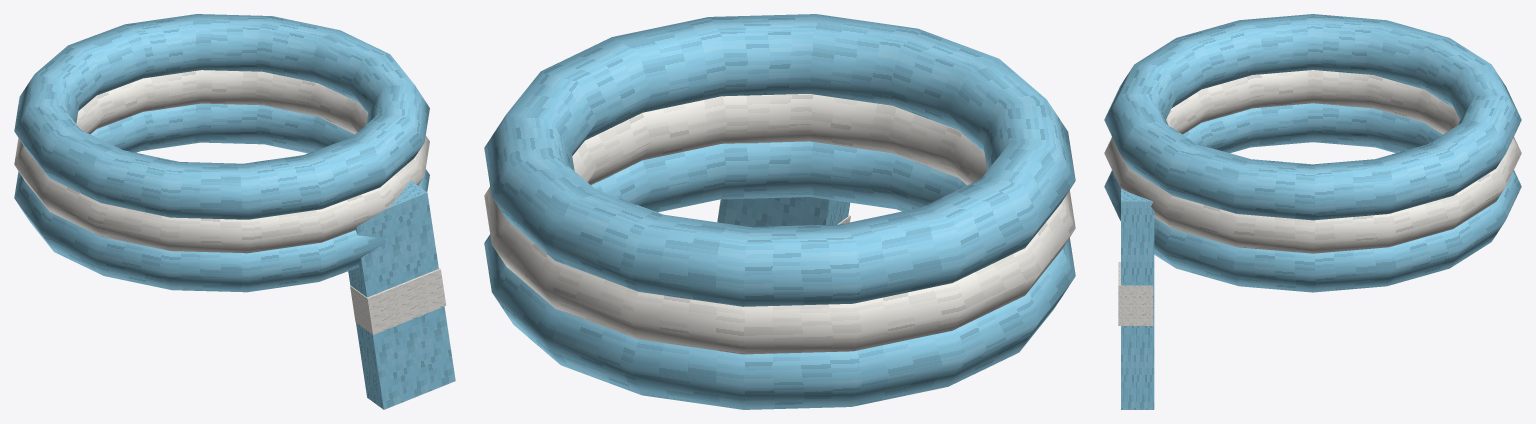
File: bufanda_albiceleste.glb
The picture shows the model from 3 angles, left to right: view 1: azimuth 30°, elevation 25°; view 2: azimuth 150°, elevation 25°; view 3: azimuth 270°, elevation 25°; orthographic projection. The views are drawn at different scales.
Parts seen in each view (by area): view 1: _MeshInstance3D_222, _MeshInstance3D_223, _MeshInstance3D_224, _MeshInstance3D_225, _MeshInstance3D_226; view 2: _MeshInstance3D_222, _MeshInstance3D_224, _MeshInstance3D_223, _MeshInstance3D_225; view 3: _MeshInstance3D_222, _MeshInstance3D_224, _MeshInstance3D_223, _MeshInstance3D_225, _MeshInstance3D_226.
Part boxes in pixels (x1,y1,x2,y2): _MeshInstance3D_222: [14, 14, 429, 219]; _MeshInstance3D_223: [14, 70, 429, 253]; _MeshInstance3D_224: [14, 103, 429, 292]; _MeshInstance3D_225: [348, 181, 455, 409]; _MeshInstance3D_226: [350, 268, 446, 334]; _MeshInstance3D_222: [484, 14, 1075, 306]; _MeshInstance3D_224: [484, 141, 1075, 409]; _MeshInstance3D_223: [484, 94, 1075, 354]; _MeshInstance3D_225: [718, 197, 849, 226]; _MeshInstance3D_222: [1104, 14, 1521, 220]; _MeshInstance3D_224: [1104, 103, 1521, 292]; _MeshInstance3D_223: [1104, 70, 1521, 253]; _MeshInstance3D_225: [1121, 188, 1154, 409]; _MeshInstance3D_226: [1118, 262, 1153, 325].
Bounding box in the file's own units: 0.25 × 0.171 × 0.25.
Materials: 2 (2 with a texture image).
